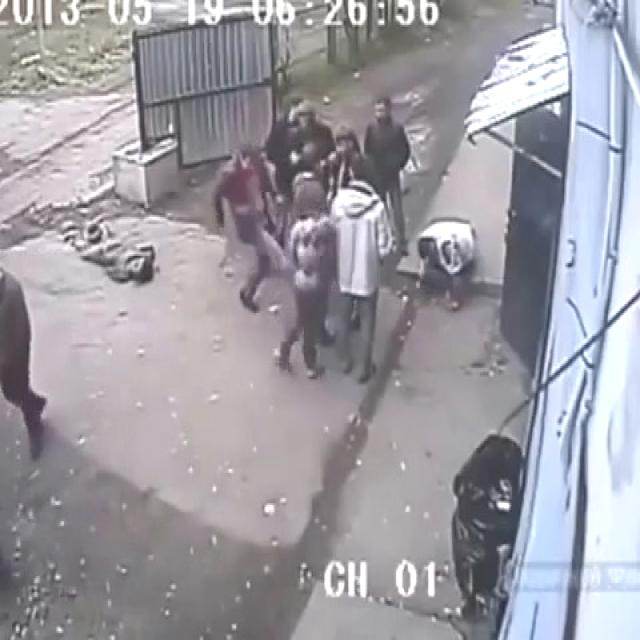fight: (208, 93, 433, 294)
